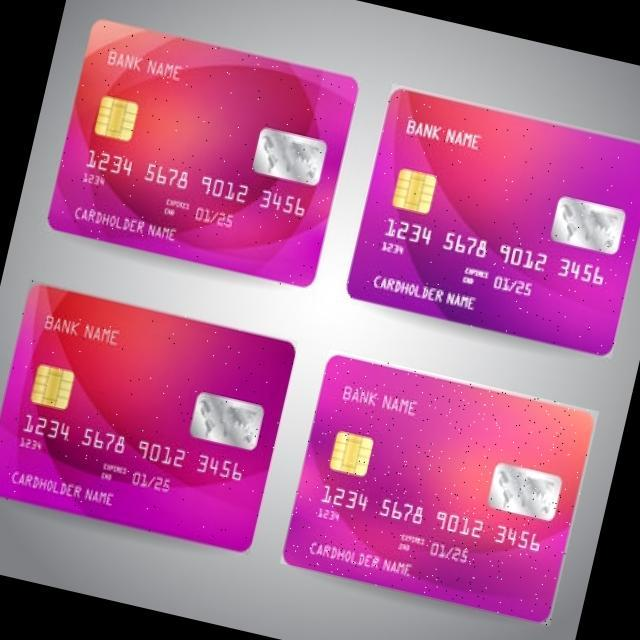payment_card: (281, 353, 599, 624), (49, 14, 358, 289), (0, 281, 296, 552), (345, 84, 639, 356)
